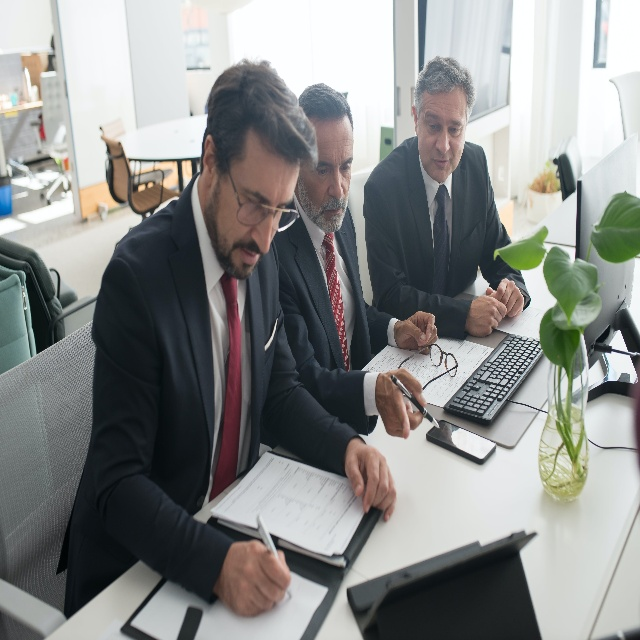Gafas: (398, 342, 459, 390)
Sin_guantes: (214, 538, 291, 618), (345, 440, 397, 521), (375, 369, 427, 440), (396, 309, 438, 357), (466, 295, 507, 338), (486, 278, 524, 318)
